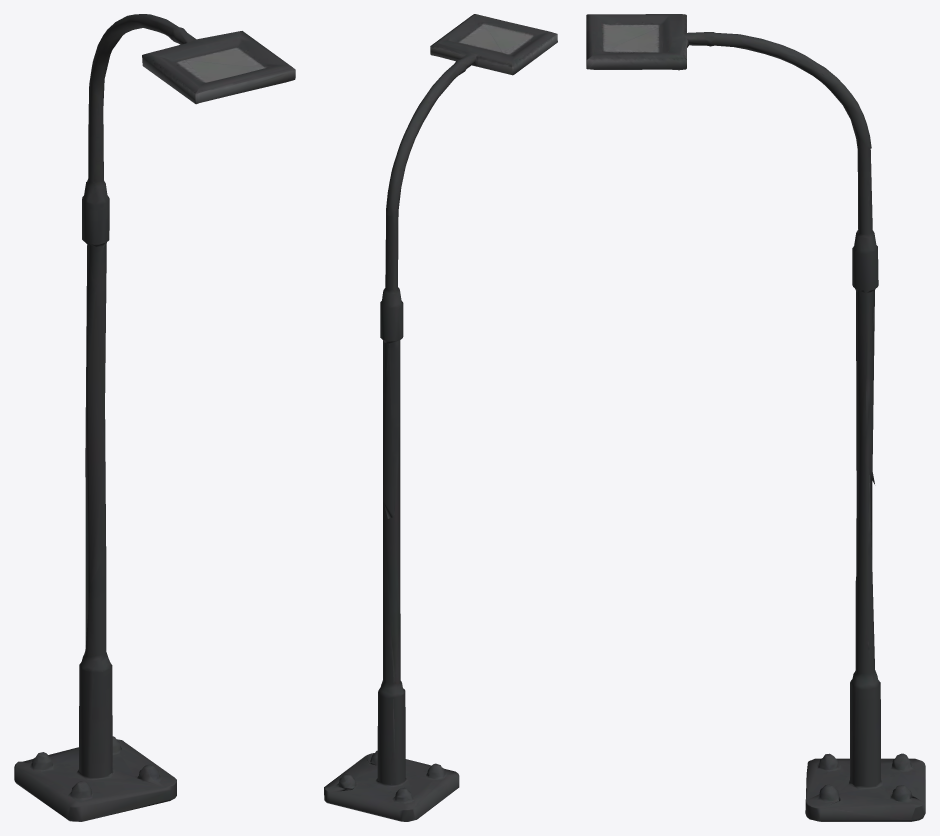
3 renders of one model, left to right at view 1: azimuth 30°, elevation 25°; view 2: azimuth 150°, elevation 25°; view 3: azimuth 270°, elevation 25°, orthographic. The views are drawn at different scales.
Size of the model in its own units: 0.2699 by 1.9 by 0.7632.
Materials: 1 (1 with a texture image).
